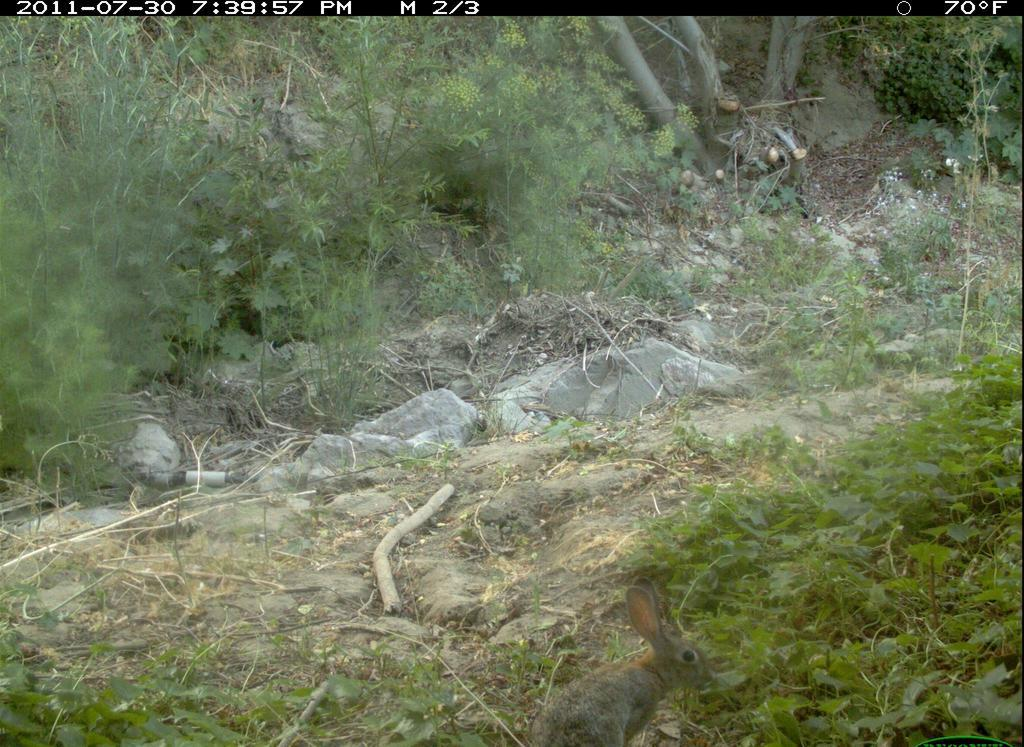rabbit: (520, 566, 722, 747)
